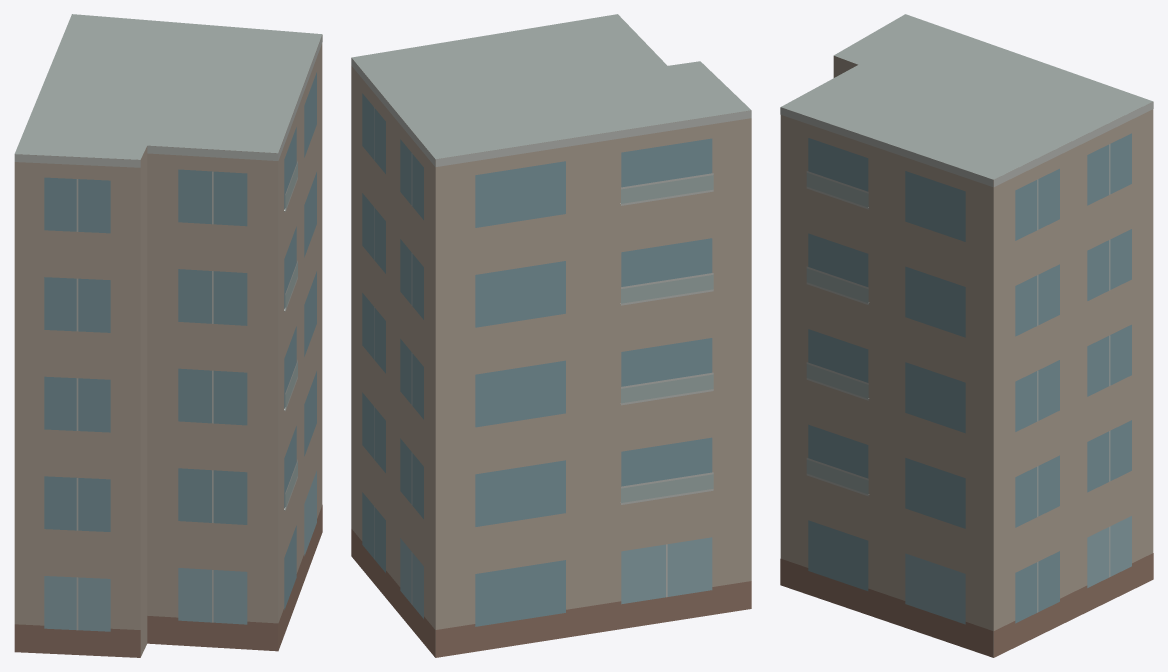
The model's file is survey-upis-32871789.glb.
3 views of the same model, side by side, from view 1: azimuth 30°, elevation 25°; view 2: azimuth 150°, elevation 25°; view 3: azimuth 270°, elevation 25° (orthographic). The views are drawn at different scales.
Parts seen in each view (by area): view 1: survey-upis-32871789.tmp; view 2: survey-upis-32871789.tmp; view 3: survey-upis-32871789.tmp.
Part boxes in pixels (x1=…): survey-upis-32871789.tmp: x1=14, y1=14, x2=322, y2=657; survey-upis-32871789.tmp: x1=351, y1=14, x2=751, y2=657; survey-upis-32871789.tmp: x1=780, y1=14, x2=1153, y2=657.
Bounding box in the file's own units: 11.46 × 15.4 × 10.89.
